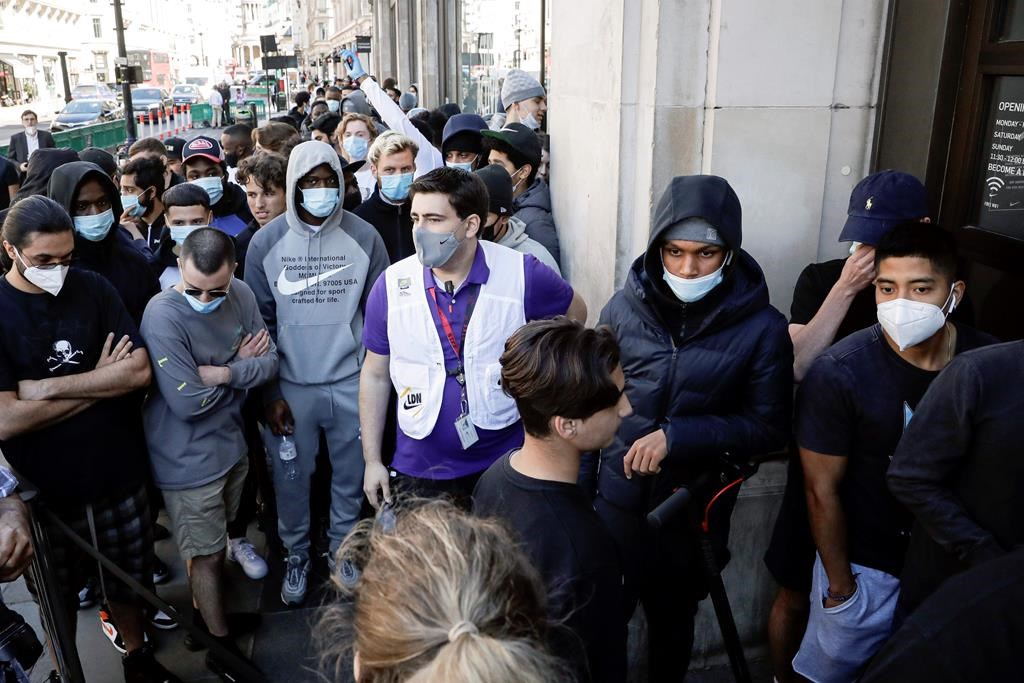mask_weared_incorrect: (657, 230, 730, 301), (509, 86, 550, 130)
with_mask: (871, 254, 959, 355), (407, 190, 485, 271), (14, 231, 76, 300), (179, 250, 238, 317), (62, 188, 124, 238), (295, 164, 343, 221), (164, 198, 209, 252), (181, 159, 229, 203), (118, 170, 161, 217), (375, 150, 415, 197), (342, 124, 371, 161)
without_mask: (556, 362, 635, 451), (245, 167, 287, 227)
